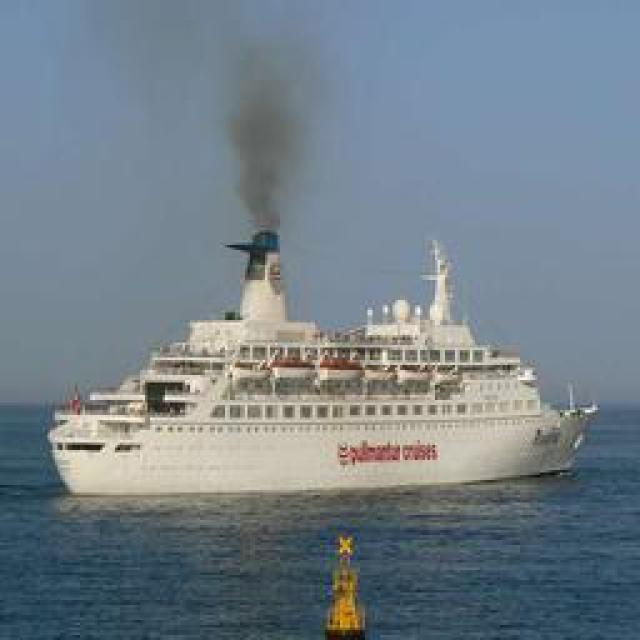Ship: (45, 225, 583, 495)
